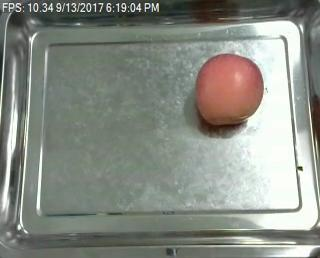apple: (194, 53, 266, 128)
